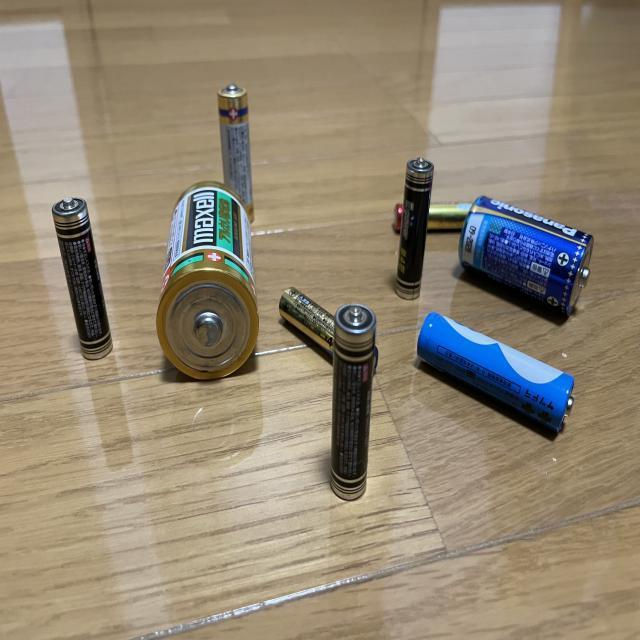AA: (412, 306, 583, 438)
AAA: (41, 188, 125, 366), (323, 290, 376, 510), (280, 278, 390, 374), (211, 76, 266, 225), (393, 147, 436, 306), (387, 197, 498, 235)
